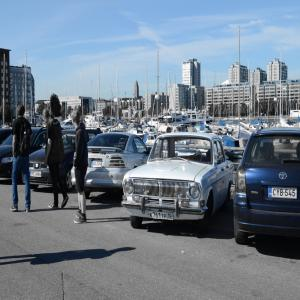Vehicle-registration-plate: (270, 187, 299, 200), (149, 212, 174, 221), (92, 160, 103, 168), (31, 172, 42, 177)
